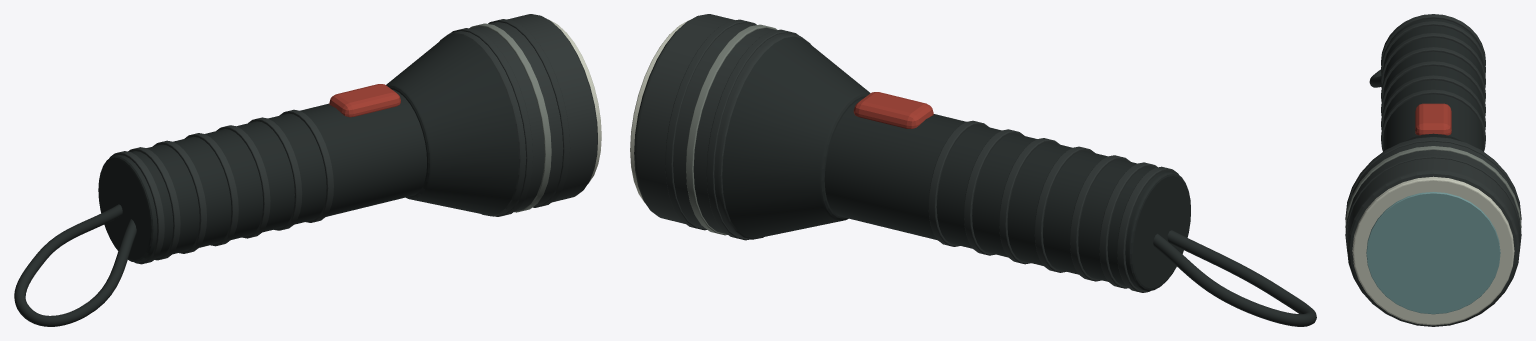
Rendered from flashlight.glb.
3 views of the same model, side by side, from view 1: azimuth 30°, elevation 25°; view 2: azimuth 150°, elevation 25°; view 3: azimuth 270°, elevation 25° (orthographic). The views are drawn at different scales.
Visible parts, largest first — view 1: flashlight; view 2: flashlight; view 3: flashlight.
Part boxes in pixels (x1,y1,x2,y2): flashlight: [14, 14, 601, 326]; flashlight: [630, 14, 1316, 326]; flashlight: [1345, 14, 1521, 326].
Size of the model in its own units: 0.17 by 0.051 by 0.051.
